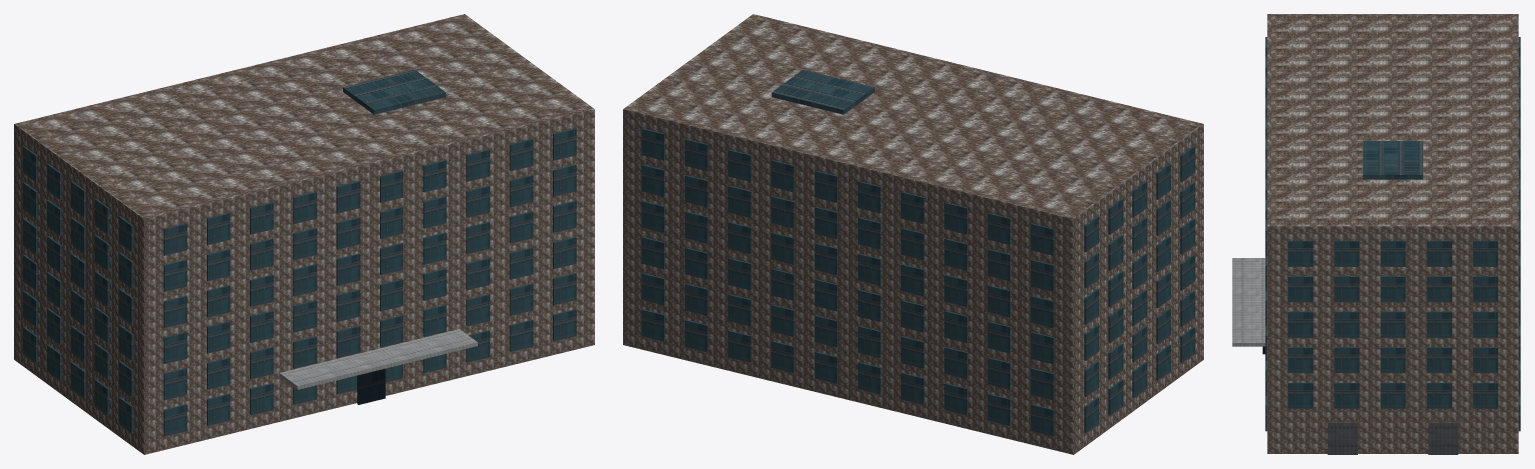
The model's file is modern-loft-office_lod0.gltf.
The picture shows the model from 3 angles, left to right: view 1: azimuth 30°, elevation 25°; view 2: azimuth 150°, elevation 25°; view 3: azimuth 270°, elevation 25°; orthographic projection. The views are drawn at different scales.
Parts seen in each view (by area): view 1: modern-loft-office_main, modern-loft-office_fen_07-glass-curtain-blue_0, modern-loft-office__canopy, modern-loft-office__skylights, modern-loft-office_fen_07-glass-curtain-blue_1_t; view 2: modern-loft-office_main, modern-loft-office_fen_07-glass-curtain-blue_0, modern-loft-office__skylights; view 3: modern-loft-office_main, modern-loft-office_fen_07-glass-curtain-blue_0, modern-loft-office__canopy, modern-loft-office__skylights, modern-loft-office_fen_14-steel-panel_2_t.
Boxes of the visible parts, x1,y1,x2,y2 form: modern-loft-office_main: [14, 14, 594, 454]; modern-loft-office_fen_07-glass-curtain-blue_0: [23, 128, 576, 436]; modern-loft-office__canopy: [279, 329, 477, 389]; modern-loft-office__skylights: [343, 69, 446, 114]; modern-loft-office_fen_07-glass-curtain-blue_1_t: [357, 368, 385, 404]; modern-loft-office_main: [623, 14, 1203, 454]; modern-loft-office_fen_07-glass-curtain-blue_0: [641, 128, 1194, 436]; modern-loft-office__skylights: [771, 69, 874, 114]; modern-loft-office_main: [1267, 14, 1518, 453]; modern-loft-office_fen_07-glass-curtain-blue_0: [1265, 37, 1520, 431]; modern-loft-office__canopy: [1232, 258, 1265, 346]; modern-loft-office__skylights: [1363, 141, 1423, 179]; modern-loft-office_fen_14-steel-panel_2_t: [1327, 422, 1458, 454].
Size of the model in its own units: 50.4 by 25.5 by 28.7.
